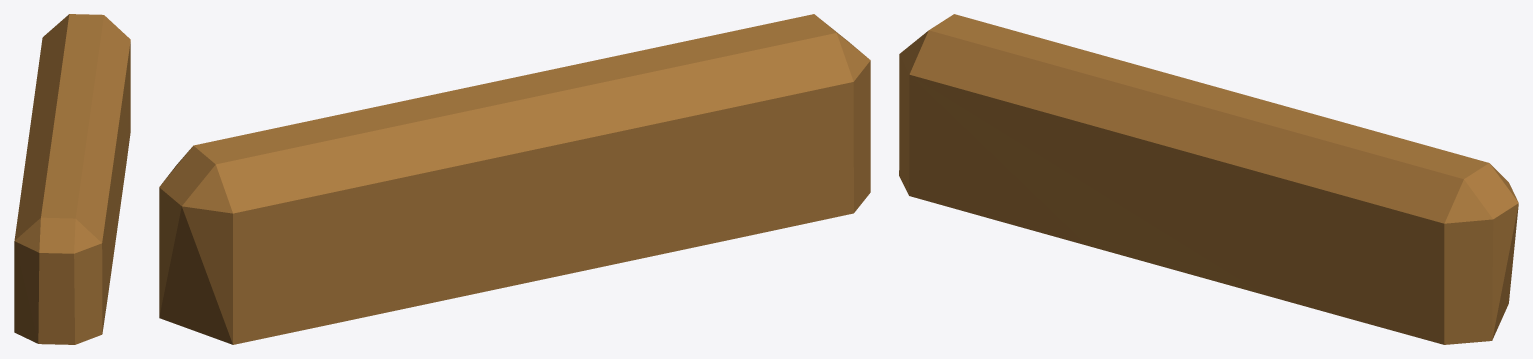
Rendered from road-barrier.lod2.glb.
3 renders of one model, left to right at view 1: azimuth 30°, elevation 25°; view 2: azimuth 150°, elevation 25°; view 3: azimuth 270°, elevation 25°, orthographic. The views are drawn at different scales.
Parts seen in each view (by area): view 1: Object_17; view 2: Object_17; view 3: Object_17.
Boxes of the visible parts, <box> form: Object_17: <box>14,14,130,344</box>; Object_17: <box>159,14,870,344</box>; Object_17: <box>899,14,1518,344</box>.
Bounding box in the file's own units: 1.66 × 0.6231 × 2.28.
